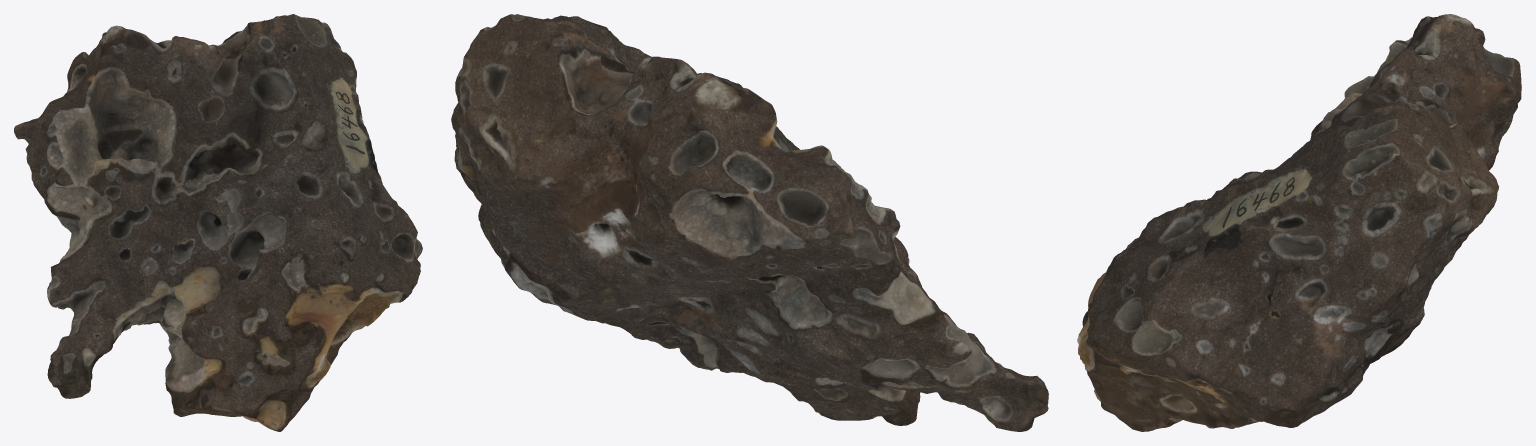
The picture shows the model from 3 angles, left to right: view 1: azimuth 30°, elevation 25°; view 2: azimuth 150°, elevation 25°; view 3: azimuth 270°, elevation 25°; orthographic projection. The views are drawn at different scales.
Visible parts, largest first — view 1: Object_2; view 2: Object_2; view 3: Object_2.
Part boxes in pixels (bbox=[...]): Object_2: bbox=[14, 14, 422, 431]; Object_2: bbox=[451, 14, 1048, 431]; Object_2: bbox=[1077, 14, 1521, 431].
Size of the model in its own units: 0.0852 by 0.0689 by 0.0705.
Materials: 1 (1 with a texture image).
